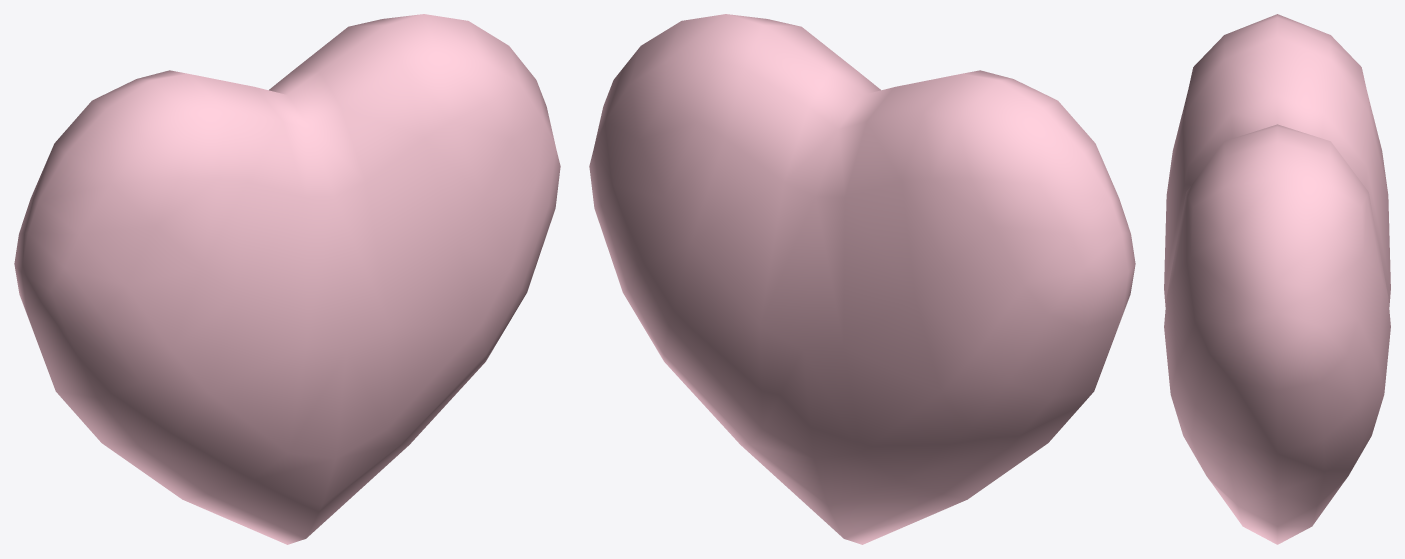
Rendered from heart.fbx.
The picture shows the model from 3 angles, left to right: view 1: azimuth 30°, elevation 25°; view 2: azimuth 150°, elevation 25°; view 3: azimuth 270°, elevation 25°; orthographic projection. The views are drawn at different scales.
Parts seen in each view (by area): view 1: Pillow_Heart_01; view 2: Pillow_Heart_01; view 3: Pillow_Heart_01.
Boxes of the visible parts, x1,y1,x2,y2 form: Pillow_Heart_01: (14,14,560,544); Pillow_Heart_01: (589,14,1135,544); Pillow_Heart_01: (1164,14,1390,544).
Bounding box in the file's own units: 40.23 × 35.95 × 15.9.
